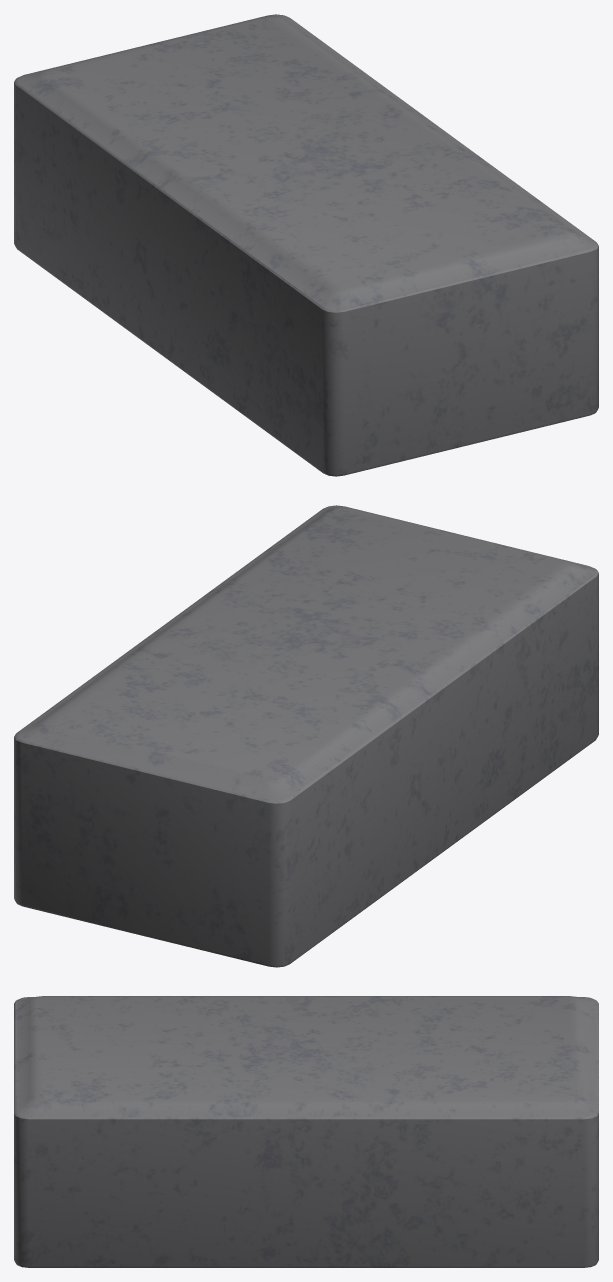
Rendered from col_classic-ash.glb.
The picture shows the model from 3 angles, top to bottom: view 1: azimuth 30°, elevation 25°; view 2: azimuth 150°, elevation 25°; view 3: azimuth 270°, elevation 25°; orthographic projection. The views are drawn at different scales.
Parts seen in each view (by area): view 1: Colonial Classic; view 2: Colonial Classic; view 3: Colonial Classic.
Part boxes in pixels (<box>): Colonial Classic: <box>14,14,598,476</box>; Colonial Classic: <box>14,505,598,967</box>; Colonial Classic: <box>14,996,598,1267</box>.
Bounding box in the file's own units: 0.0984 × 0.0603 × 0.2.
Materials: 1 (1 with a texture image).
